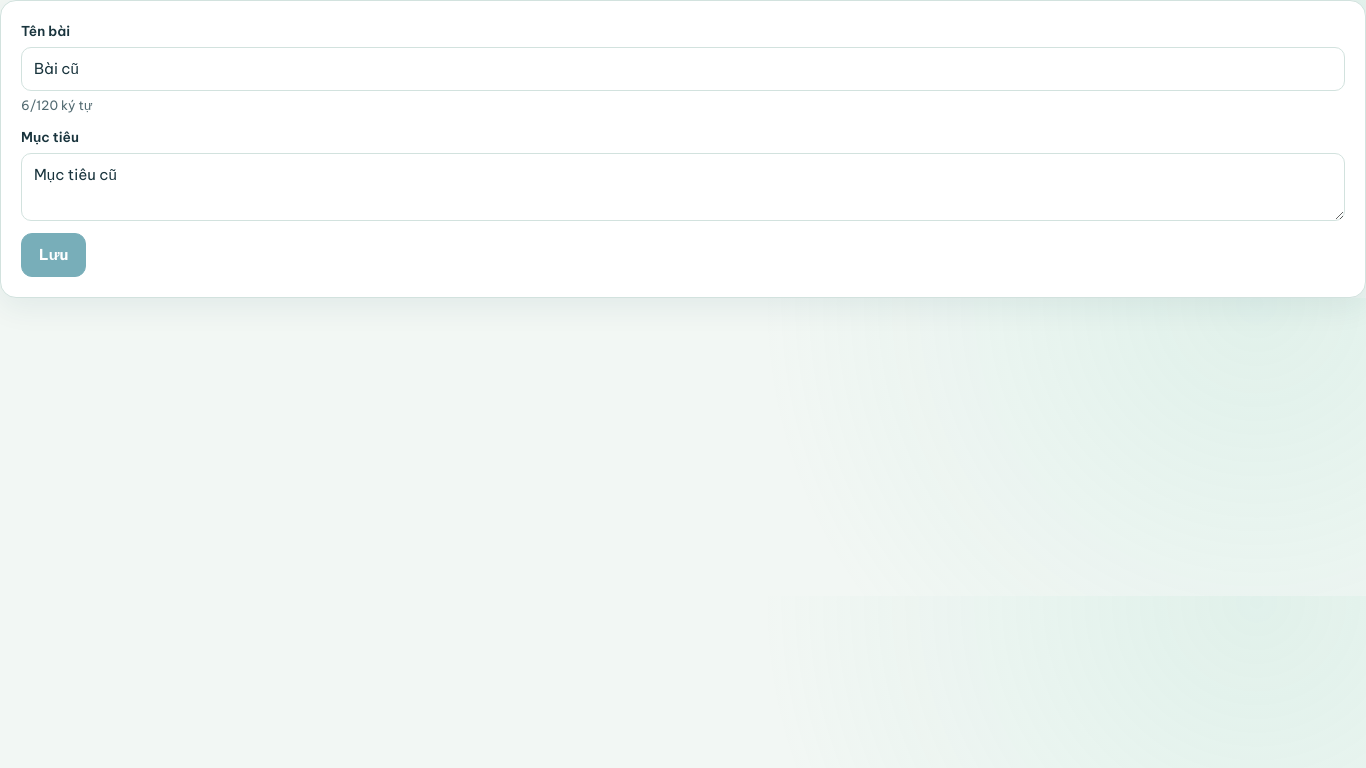
Test: saves the trimmed title and the goal, and stays disabled while unchanged or invalid
Expected: the button "Lưu" is disabled, x1=21 y1=233 x2=86 y2=277
Replace the text in the field labelled "Tên bài 6/120 ký tự" with "x" at (683,69), box x1=21 y1=47 x2=1345 y2=91
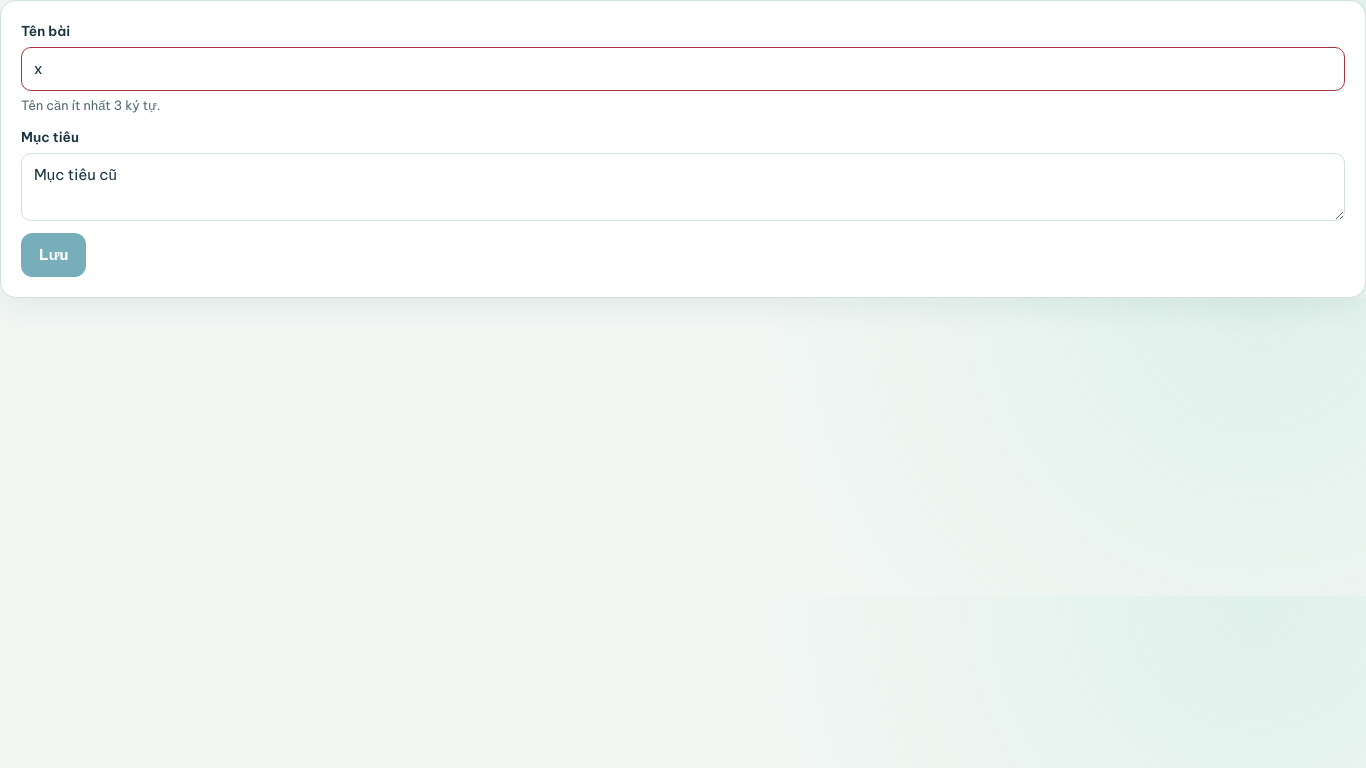
Expected: the button "Lưu" is disabled, x1=21 y1=233 x2=86 y2=277
Replace the text in the field labelled "Tên bài Tên cần ít nhất 3 ký tự." with "  Bài 4.   Trái Đất " at (683,69), box x1=21 y1=47 x2=1345 y2=91
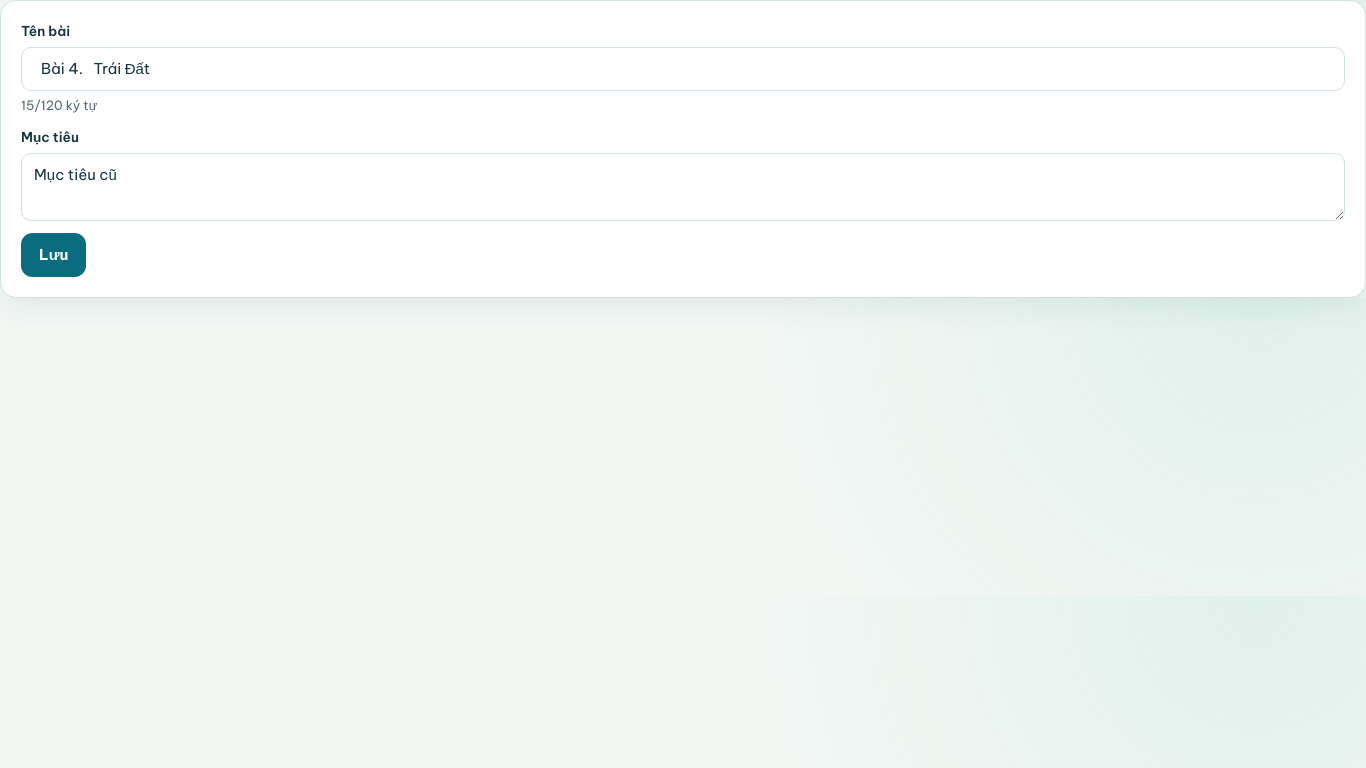
Replace the text in the text box labelled "Mục tiêu" with "Mô tả được" at (683,187), box x1=21 y1=153 x2=1345 y2=221
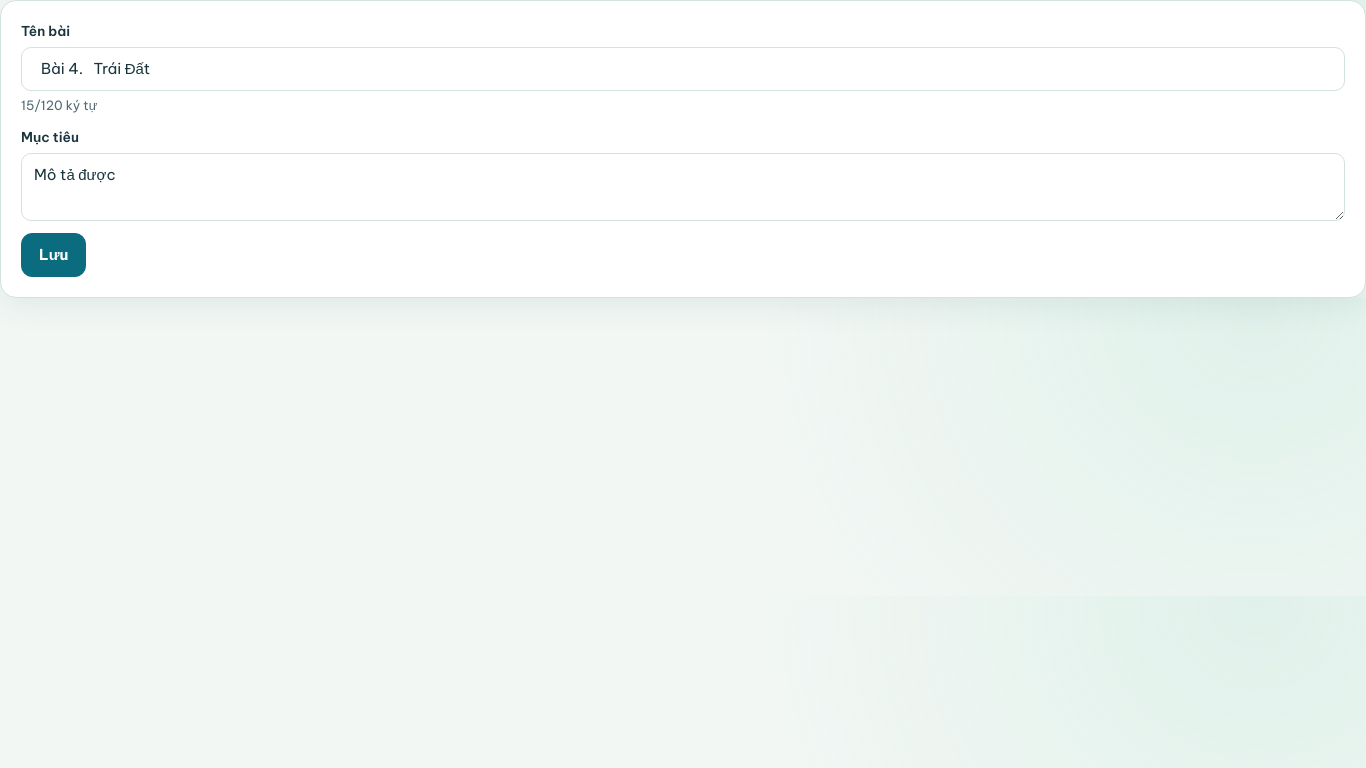
Click the button "Lưu" at (54,255), box x1=21 y1=233 x2=86 y2=277
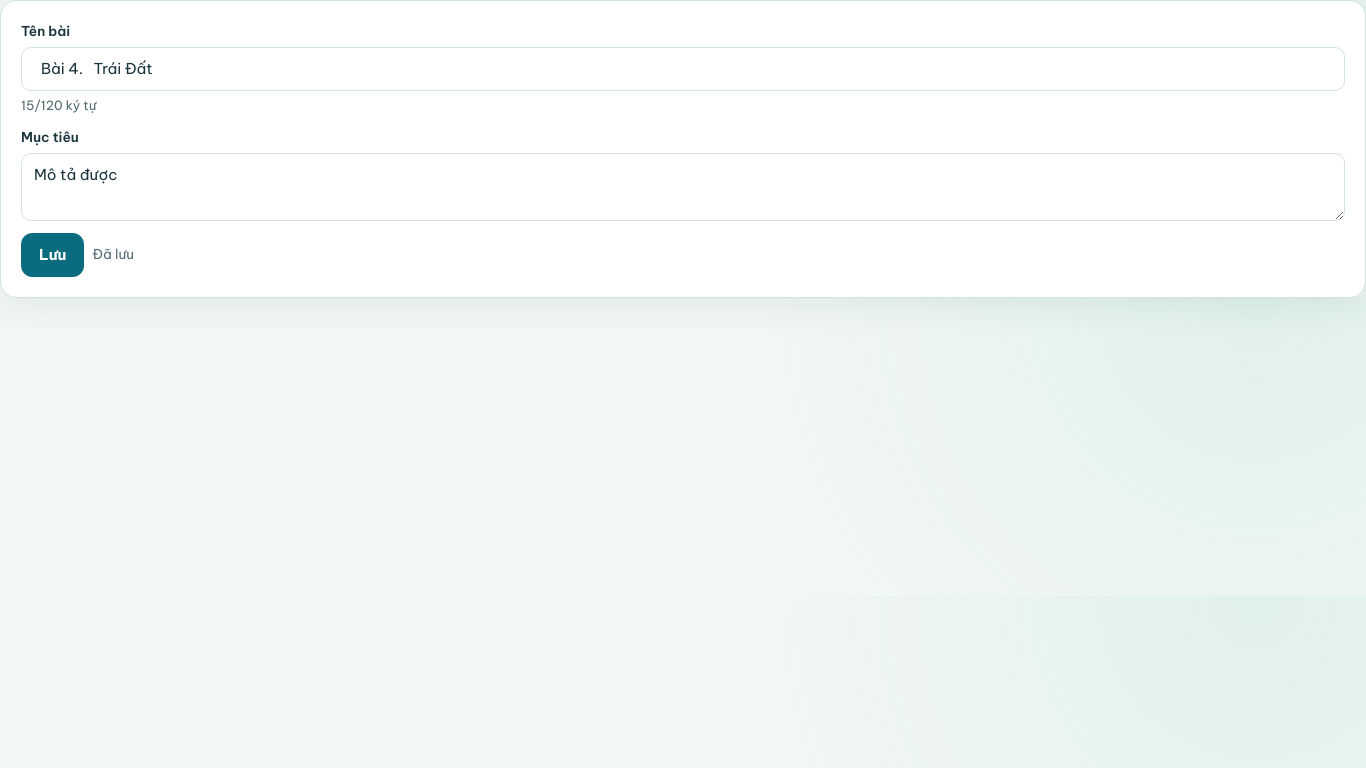
Result: the text "Đã lưu" is shown at x1=92 y1=244 x2=134 y2=266
